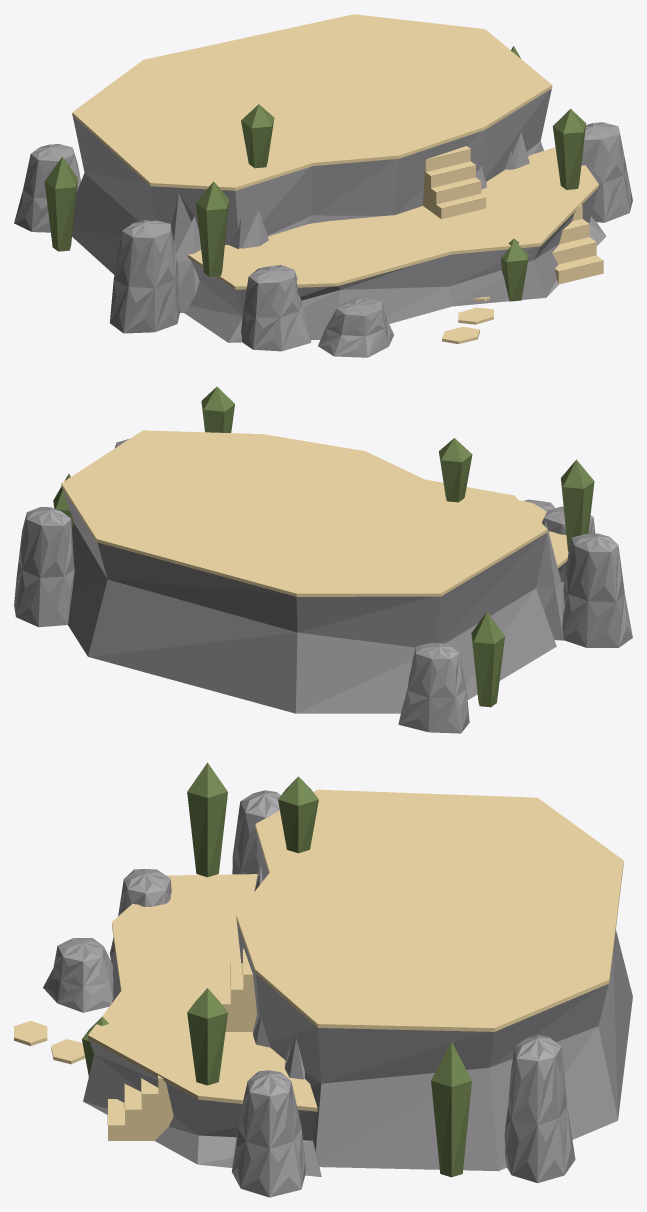
The model's file is decoration.glb.
3 views of the same model, one above another, from view 1: azimuth 30°, elevation 25°; view 2: azimuth 150°, elevation 25°; view 3: azimuth 270°, elevation 25° (orthographic). The views are drawn at different scales.
Visible parts, largest first — view 1: 22_R3C_Griffon_TwoLevelRockShelves, 22_R3C_Griffon_ConnectingStepsAndCypress; view 2: 22_R3C_Griffon_TwoLevelRockShelves, 22_R3C_Griffon_ConnectingStepsAndCypress; view 3: 22_R3C_Griffon_TwoLevelRockShelves, 22_R3C_Griffon_ConnectingStepsAndCypress.
Boxes of the visible parts, x1=… form: 22_R3C_Griffon_TwoLevelRockShelves: x1=14, y1=14, x2=632, y2=357; 22_R3C_Griffon_ConnectingStepsAndCypress: x1=44, y1=46, x2=603, y2=344; 22_R3C_Griffon_TwoLevelRockShelves: x1=14, y1=430, x2=632, y2=733; 22_R3C_Griffon_ConnectingStepsAndCypress: x1=53, y1=386, x2=594, y2=707; 22_R3C_Griffon_TwoLevelRockShelves: x1=43, y1=789, x2=632, y2=1197; 22_R3C_Griffon_ConnectingStepsAndCypress: x1=14, y1=762, x2=471, y2=1177.
Size of the model in its own units: 1.5 by 0.485 by 1.29.
